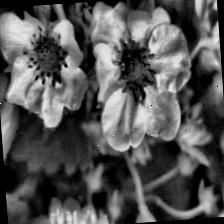Blossom Blight: (18, 22, 74, 90), (109, 36, 160, 106)
